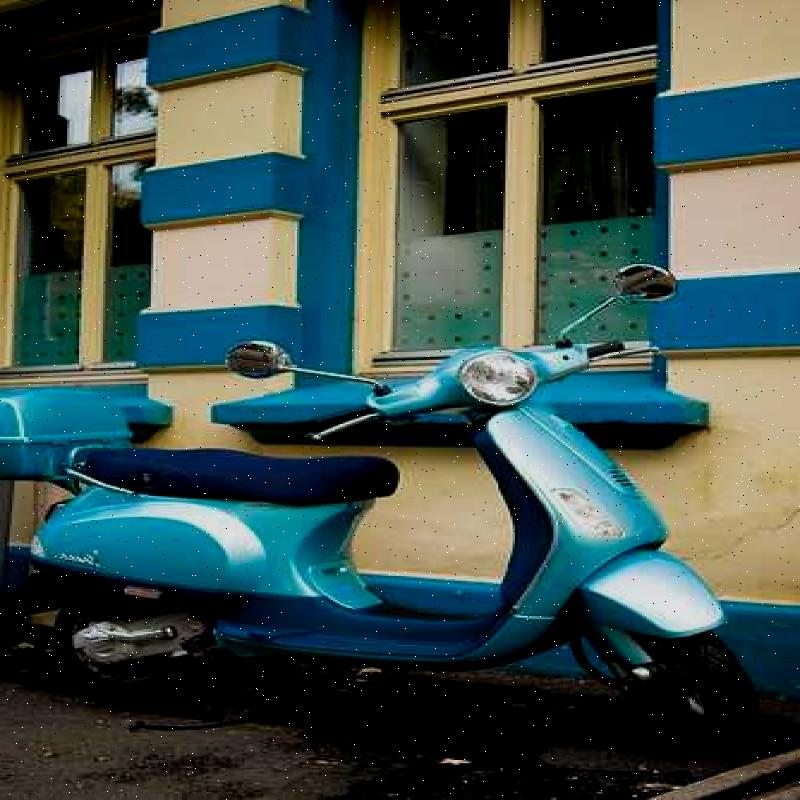bike: (9, 248, 781, 735)
